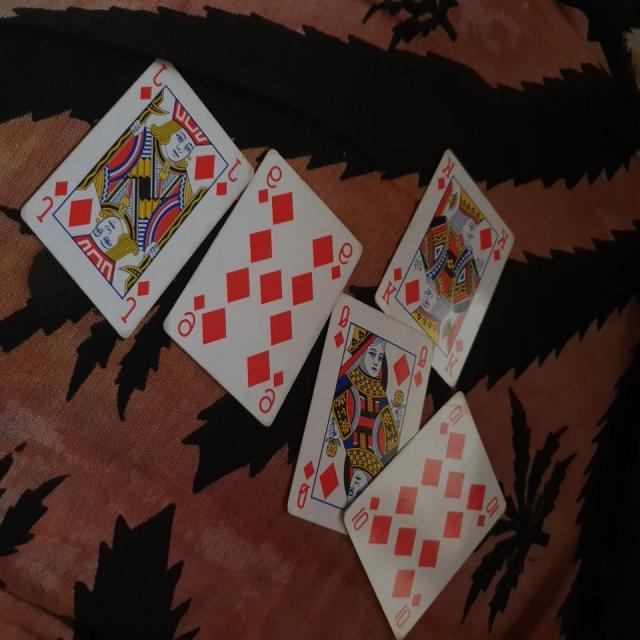10 of diamonds: (338, 386, 511, 640)
9 of diamonds: (161, 148, 365, 428)
jack of diamonds: (18, 58, 256, 340)
king of diamonds: (372, 148, 520, 390)
queen of diamonds: (286, 290, 438, 534)
